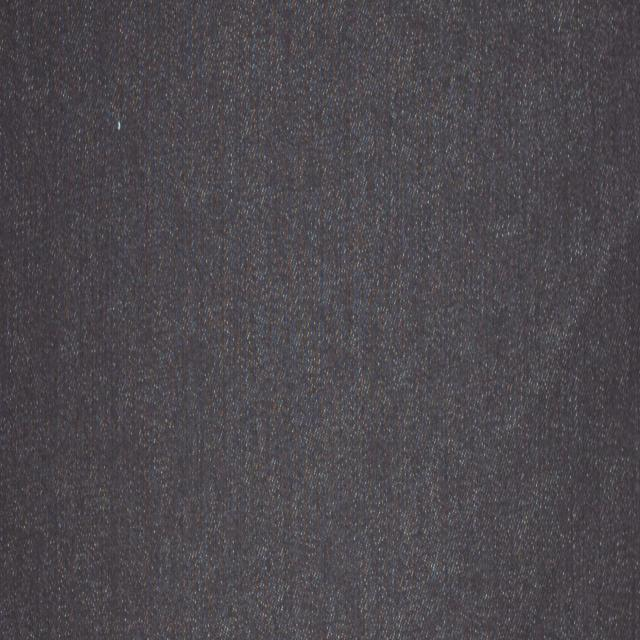Knot: (116, 119, 120, 130)
